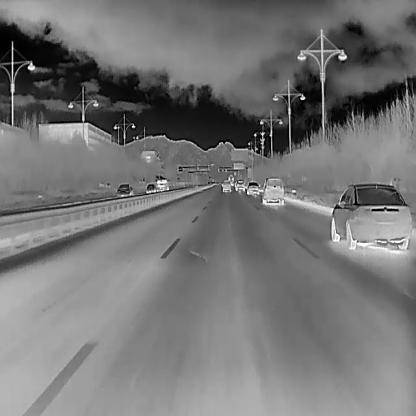car: (330, 182, 412, 250), (261, 176, 284, 205), (116, 182, 133, 197), (245, 181, 260, 195), (155, 179, 169, 192), (220, 179, 231, 192), (144, 182, 156, 193), (234, 179, 244, 191), (227, 172, 235, 186)
